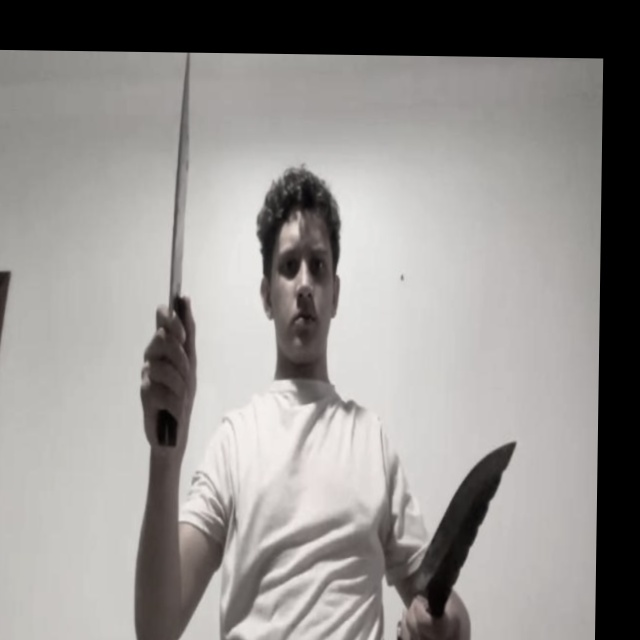Sharp-Object: (414, 440, 516, 593), (164, 54, 195, 315)
